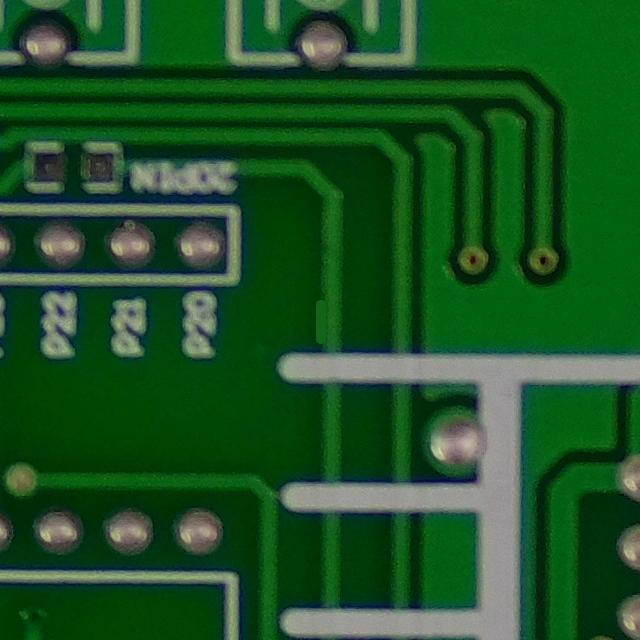spur: (297, 289, 343, 352)
